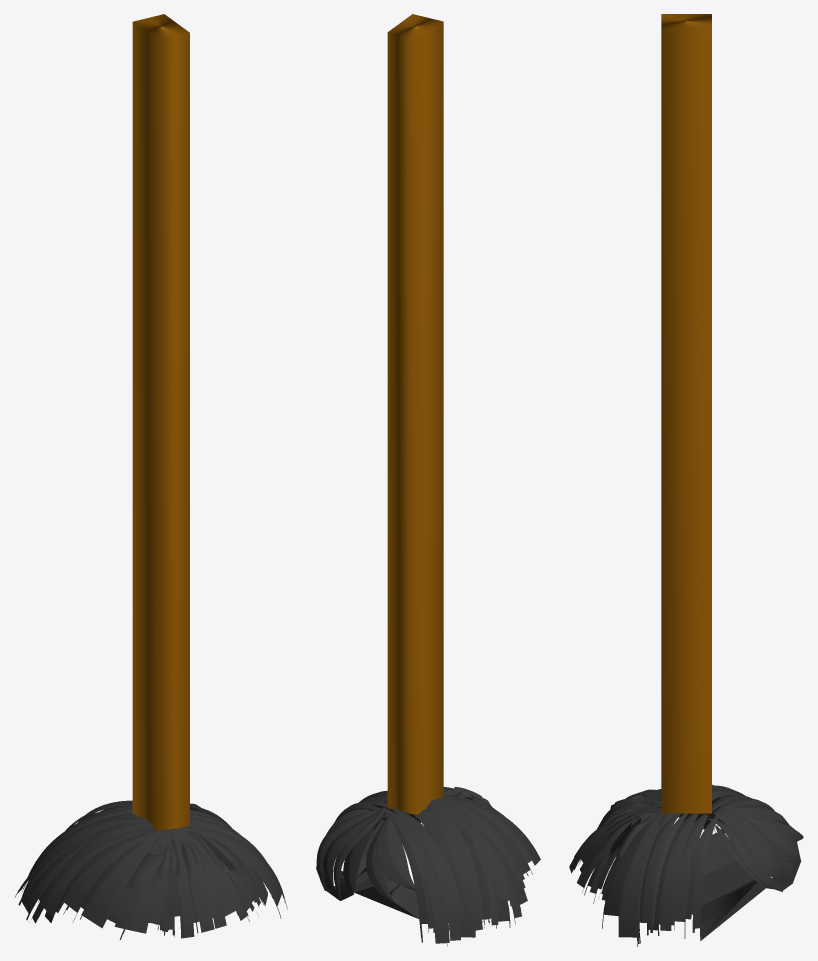
File: Wischmop.fbx
3 views of the same model, side by side, from view 1: azimuth 30°, elevation 25°; view 2: azimuth 150°, elevation 25°; view 3: azimuth 270°, elevation 25° (orthographic). The views are drawn at different scales.
Visible parts, largest first — view 1: Cube, NurbsPath.003; view 2: Cube, NurbsPath.003; view 3: Cube, NurbsPath.003.
Part boxes in pixels (x1=…): Cube: x1=132, y1=14, x2=189, y2=831; NurbsPath.003: x1=15, y1=800, x2=287, y2=939; Cube: x1=387, y1=14, x2=443, y2=814; NurbsPath.003: x1=316, y1=786, x2=540, y2=946; Cube: x1=661, y1=14, x2=711, y2=813; NurbsPath.003: x1=569, y1=784, x2=803, y2=946.
Bounding box in the file's own units: 34.51 × 134 × 32.51.
